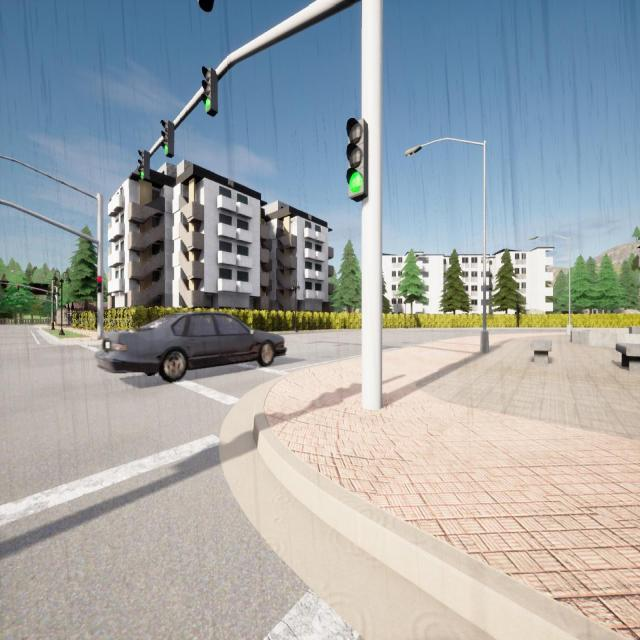Vehicle: (96, 312, 286, 382)
traffic_light: (346, 118, 368, 202), (202, 66, 217, 117), (161, 120, 174, 158), (138, 149, 150, 182), (96, 276, 102, 292), (18, 284, 20, 292), (6, 295, 8, 301), (34, 297, 35, 302), (20, 297, 21, 301)
